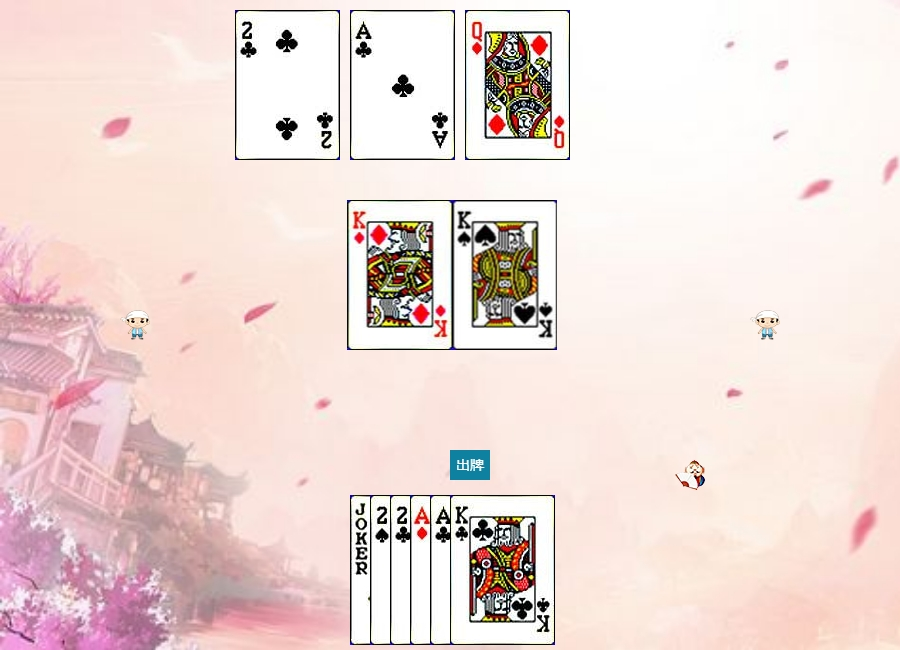12~1: (465, 10, 570, 160)
13~1: (348, 200, 453, 350)
13~2: (450, 495, 555, 645)
13~4: (453, 200, 558, 350)
14~1: (410, 495, 515, 645)
14~2: (350, 10, 455, 160), (430, 495, 535, 645)
15~2: (235, 10, 340, 160), (390, 495, 495, 645)
15~4: (370, 495, 475, 645)
17~3: (350, 495, 455, 645)
